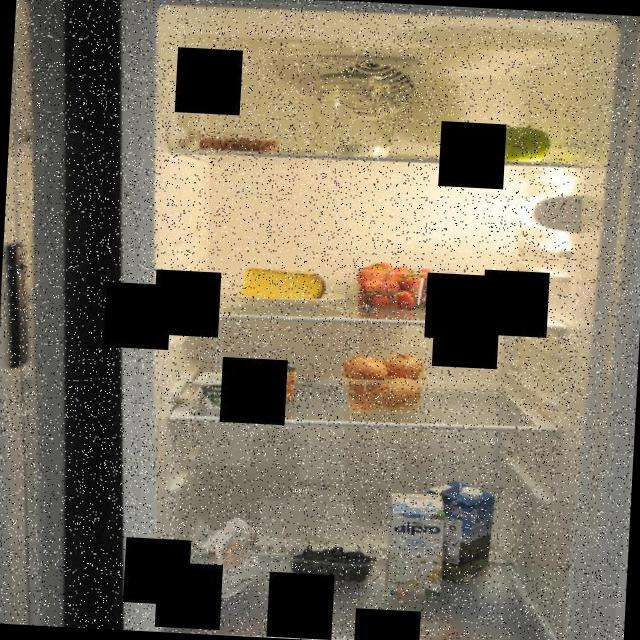Cebolla: (338, 348, 423, 409)
Gambas/Langostinos: (195, 127, 282, 156)
Leche: (422, 477, 496, 590), (382, 490, 452, 601)
Manzana: (435, 117, 554, 166)
Queso: (240, 262, 331, 307)
